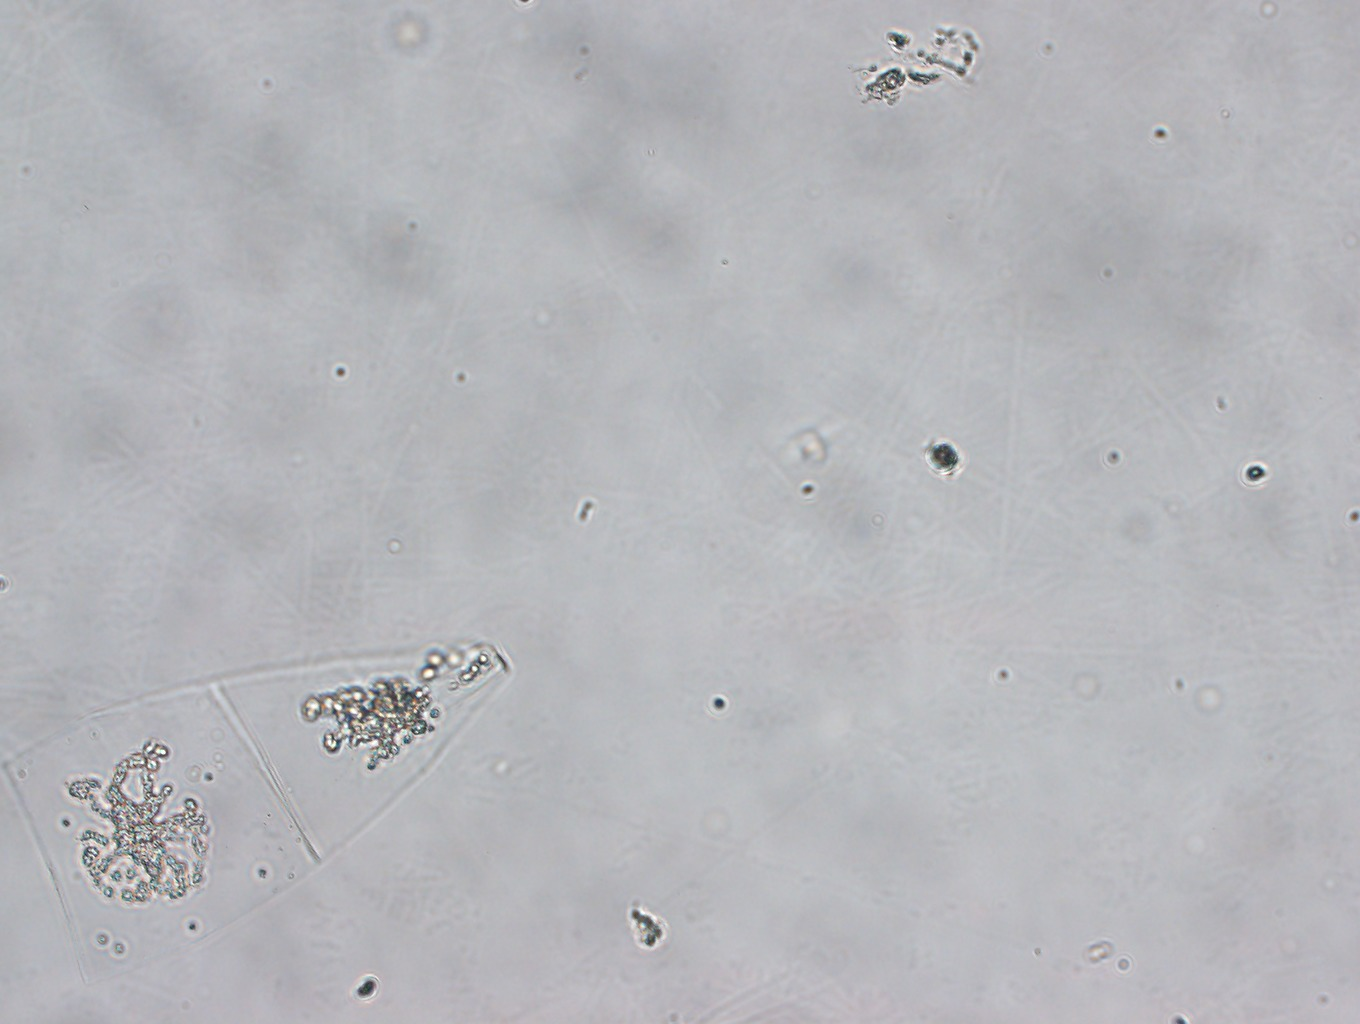helicotheca: (1, 640, 518, 990)
